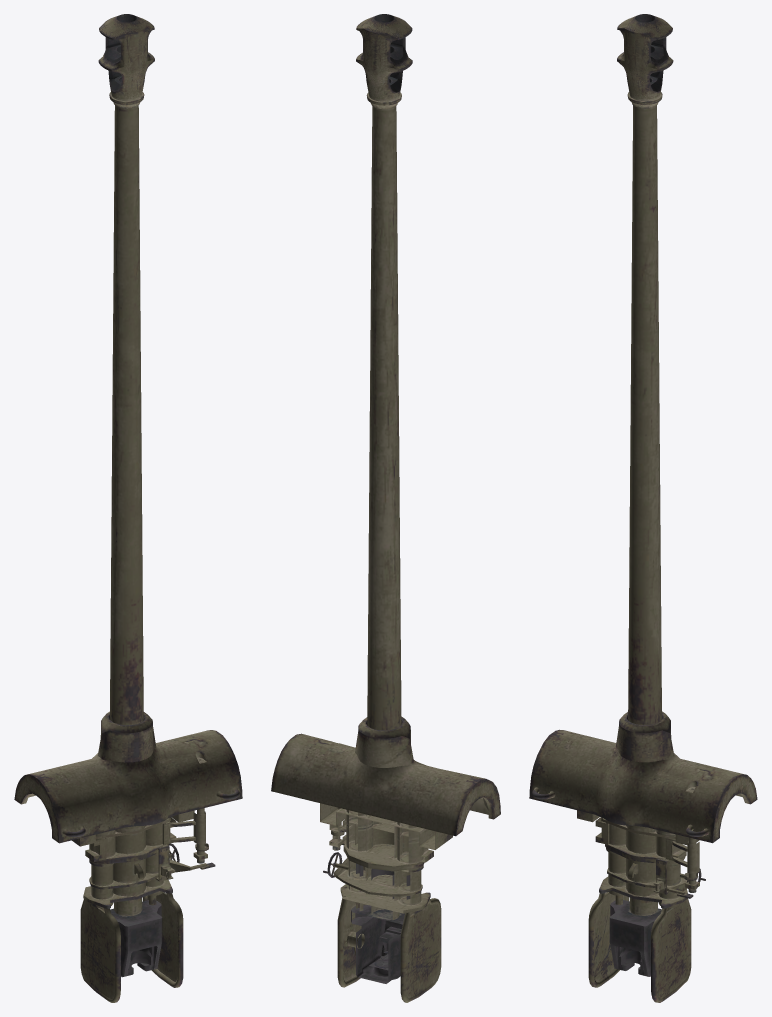
Rendered from Gun_03.glb.
3 views of the same model, side by side, from view 1: azimuth 30°, elevation 25°; view 2: azimuth 150°, elevation 25°; view 3: azimuth 330°, elevation 25° (orthographic).
Parts seen in each view (by area): view 1: set_0_group_0; view 2: set_0_group_0; view 3: set_0_group_0.
Part boxes in pixels (<box>): set_0_group_0: <box>14,14,242,1002</box>; set_0_group_0: <box>271,14,500,1002</box>; set_0_group_0: <box>529,14,757,1002</box>.
Bounding box in the file's own units: 1.36 × 6.82 × 0.6537.
Materials: 1 (1 with a texture image).
